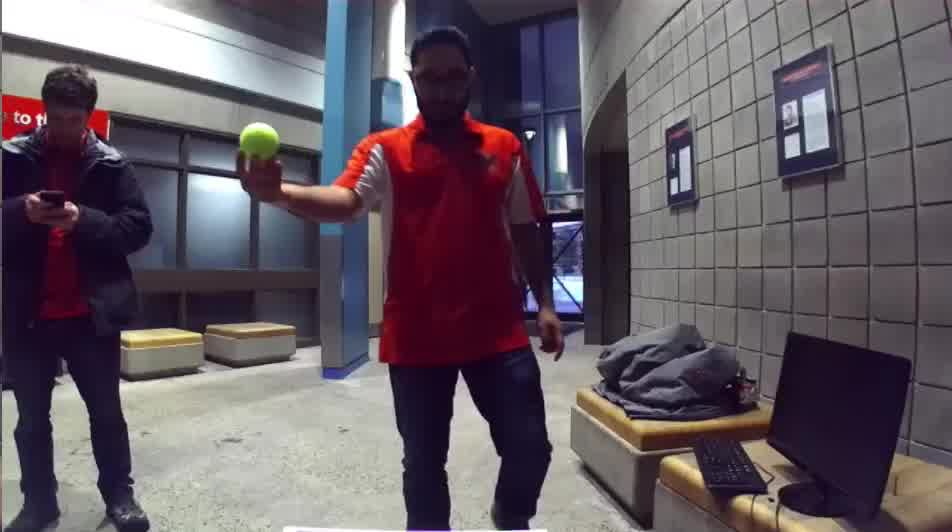tennis_ball: (236, 120, 281, 161)
